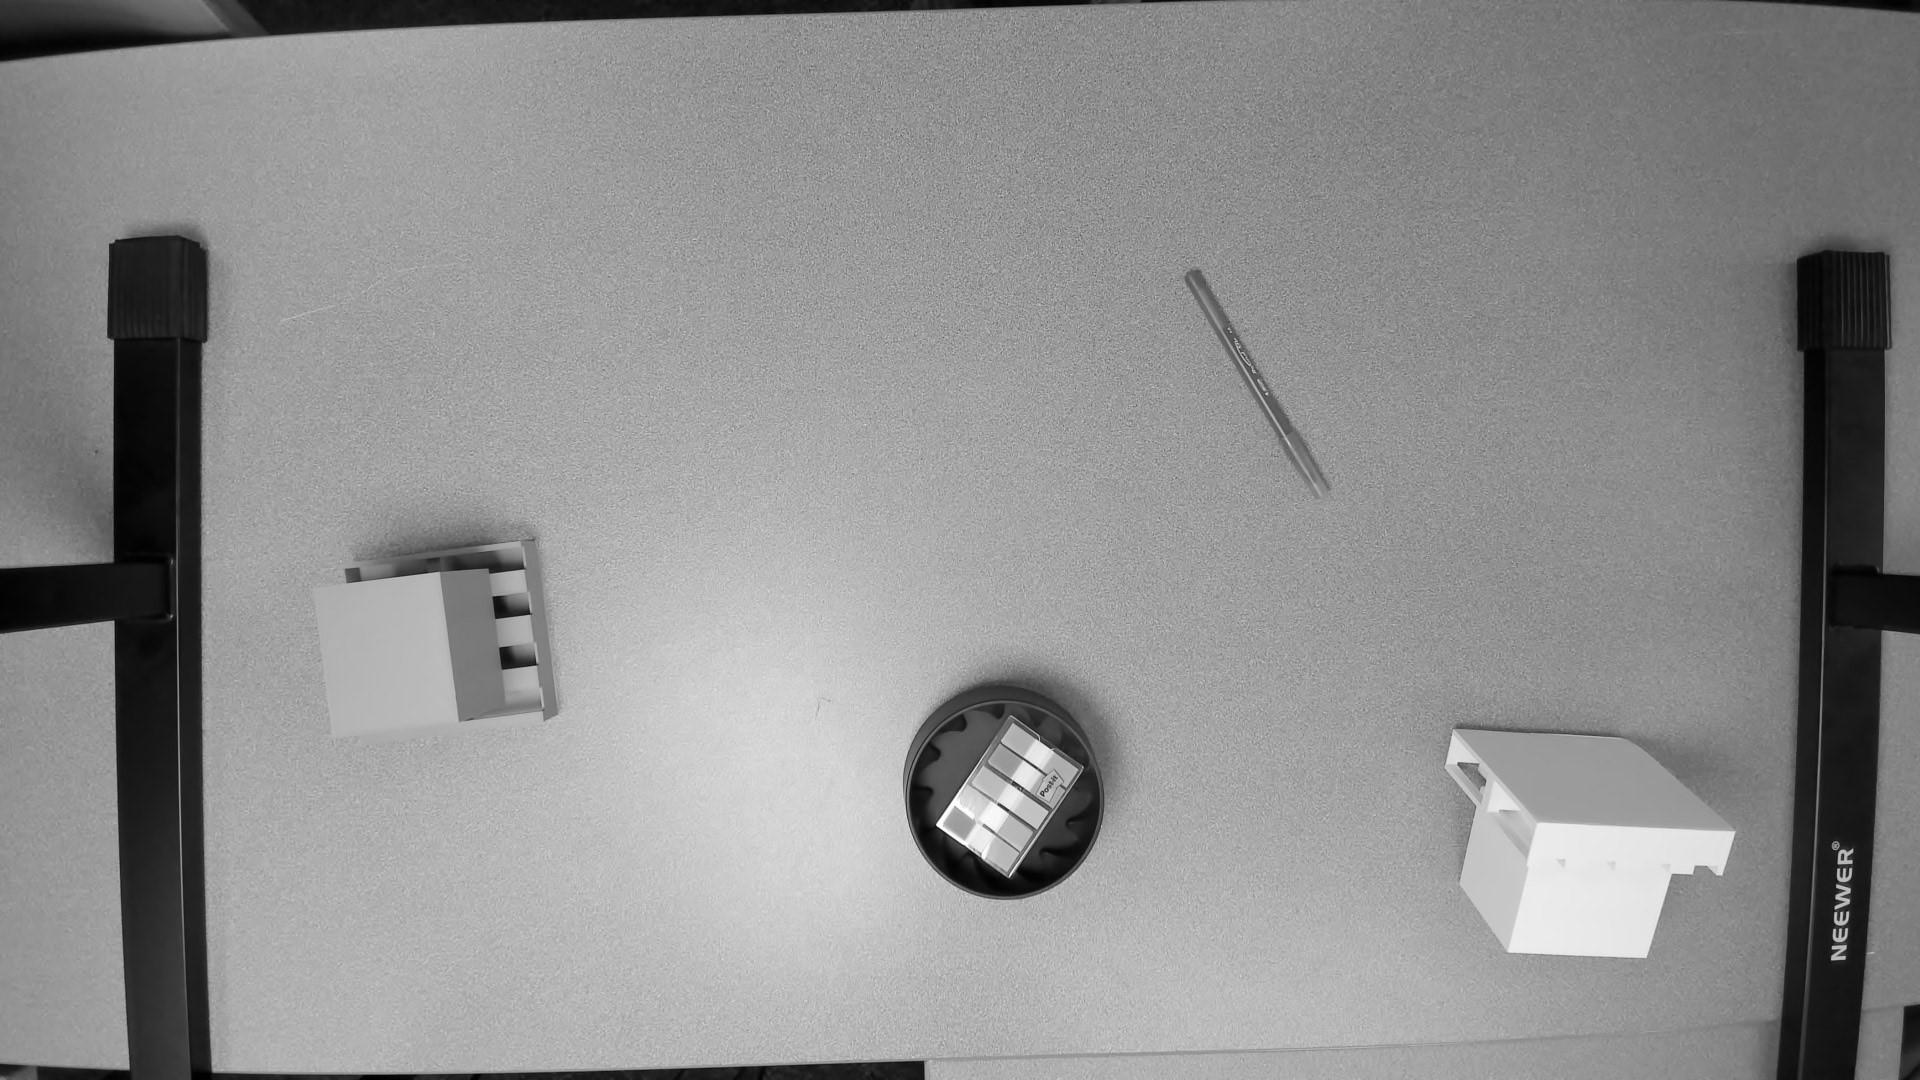grey pallet: (315, 527, 562, 748)
white pallet: (1435, 720, 1742, 980)
